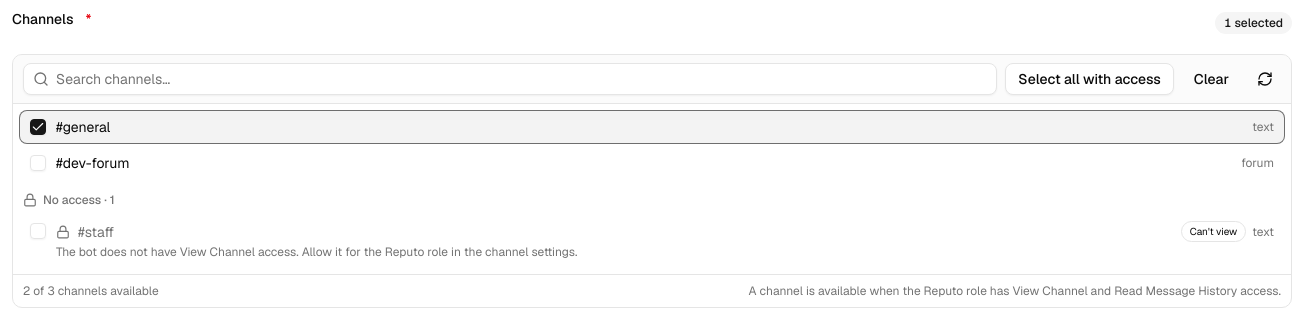
Scenario: CommunityResourcesField › filters the list by search without touching the selection
This screenshot has width=1292, height=325.
Type "forum" into the field labelled "Search channels" at (510, 79), box [23,63,997,95]
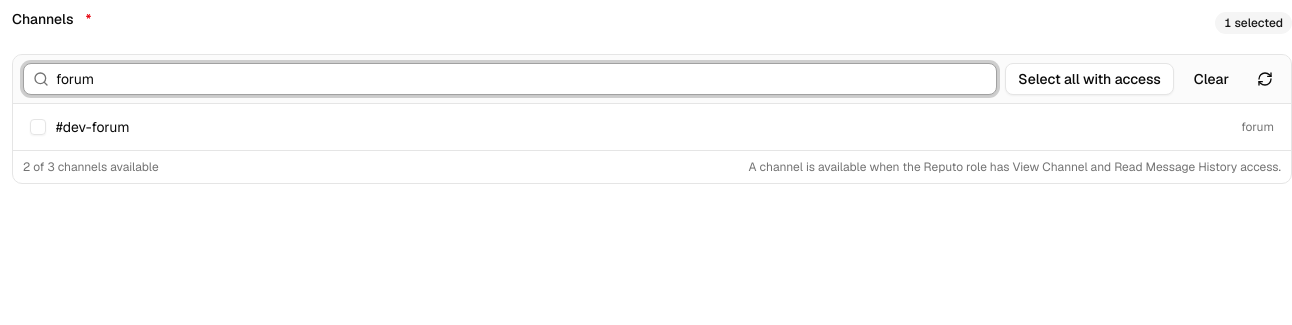
Expected: the checkbox named "#dev-forum" is shown, [30,119,46,135]
Expected: the text "#general" is gone
Replace the text in the field named "Search channels" with "zzz" at (510, 79), box [23,63,997,95]
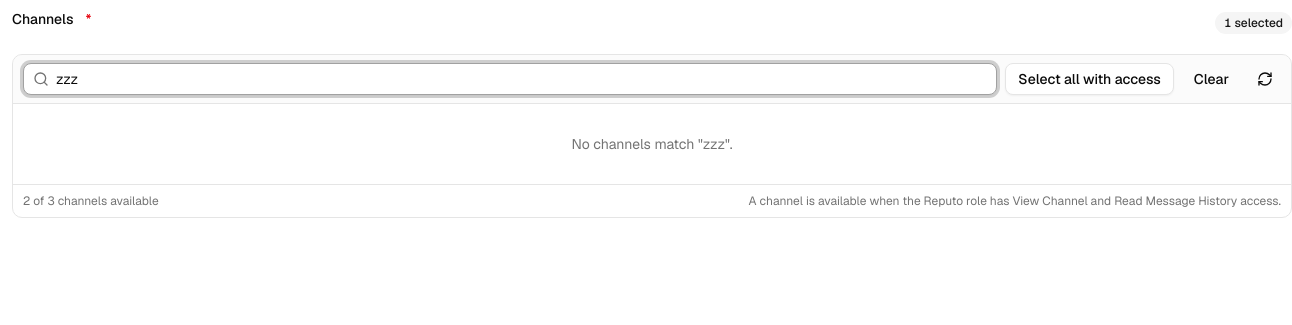
Expected: the text "No channels match \"zzz\"." is shown, [571,135,732,153]
